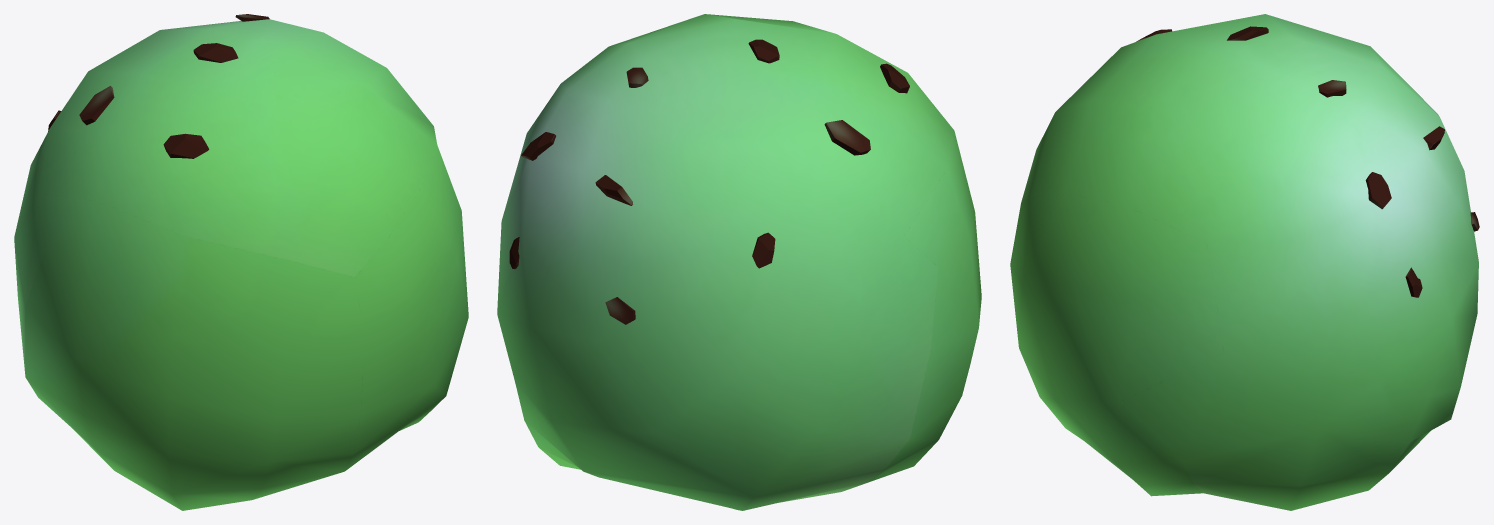
File: bocha_verde.fbx
3 views of the same model, side by side, from view 1: azimuth 30°, elevation 25°; view 2: azimuth 150°, elevation 25°; view 3: azimuth 270°, elevation 25° (orthographic). The views are drawn at different scales.
Visible parts, largest first — view 1: Retopo_Cube.005; view 2: Retopo_Cube.005; view 3: Retopo_Cube.005.
Boxes of the visible parts, left/top/right/bottom form: Retopo_Cube.005: left=14, top=14, right=468, bottom=510; Retopo_Cube.005: left=497, top=14, right=981, bottom=510; Retopo_Cube.005: left=1010, top=14, right=1479, bottom=510.
Bounding box in the file's own units: 171 × 169 × 172.
Materials: 1 (1 with a texture image).
